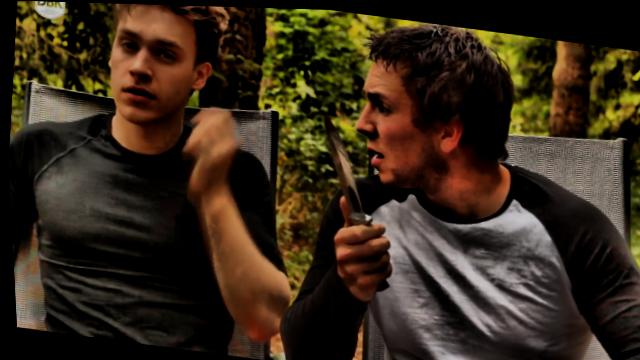knife: (298, 102, 410, 292)
